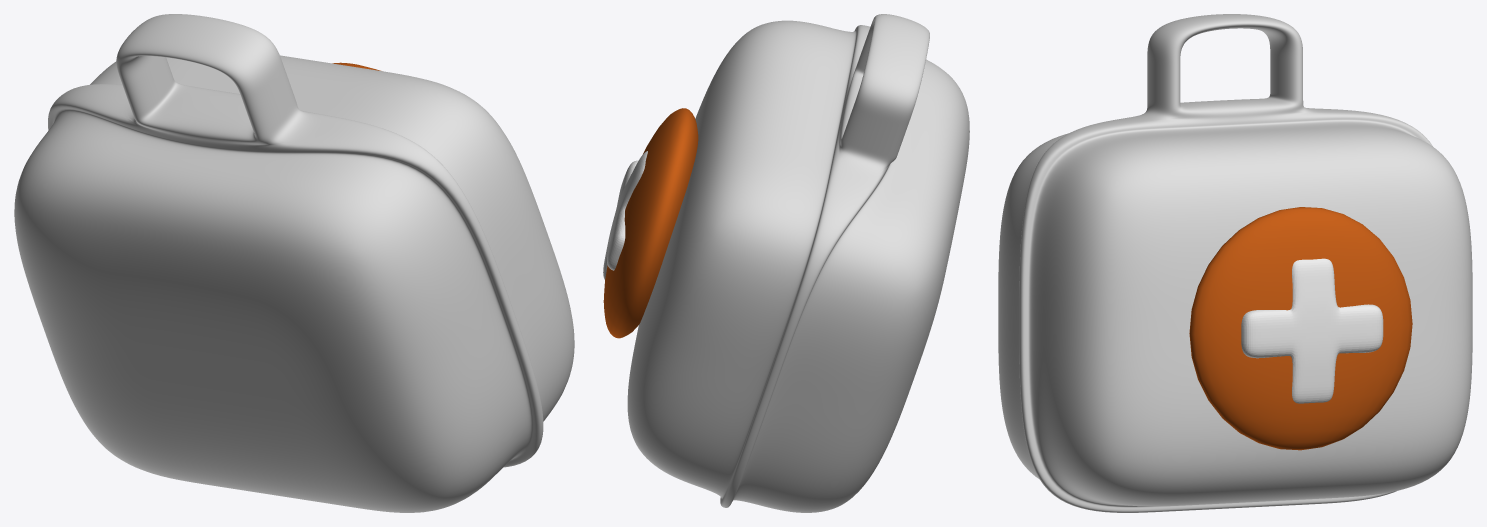
File: first-aid.gltf
3 renders of one model, left to right at view 1: azimuth 30°, elevation 25°; view 2: azimuth 150°, elevation 25°; view 3: azimuth 270°, elevation 25°, orthographic. The views are drawn at different scales.
Visible parts, largest first — view 1: Cube.001; view 2: Cube.001, Sphere, Cube.008; view 3: Cube.001, Sphere, Cube.008.
Boxes of the visible parts, box(x1,y1,x2,y2) form: Cube.001: box(14, 14, 574, 512); Cube.001: box(627, 14, 969, 512); Sphere: box(603, 108, 698, 338); Cube.008: box(603, 151, 647, 279); Cube.001: box(998, 14, 1472, 512); Sphere: box(1189, 207, 1412, 450); Cube.008: box(1241, 258, 1383, 403).
Bounding box in the file's own units: 5.69 × 6.49 × 6.27.
